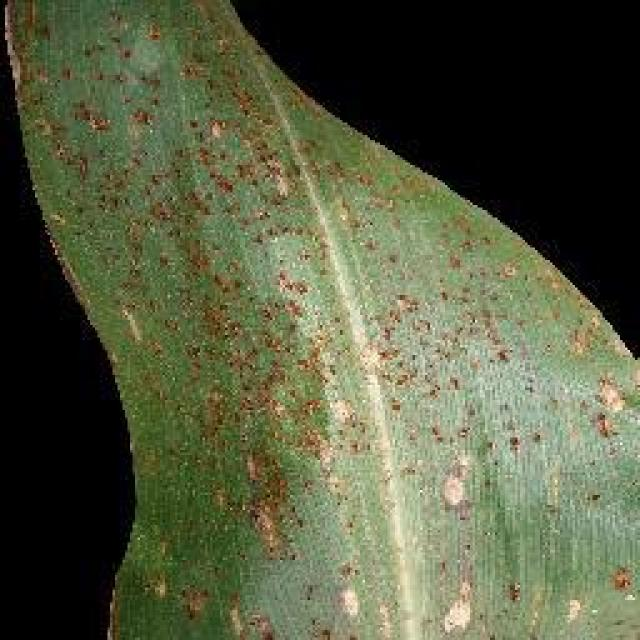Corn Common Rust: (140, 35, 532, 632)
